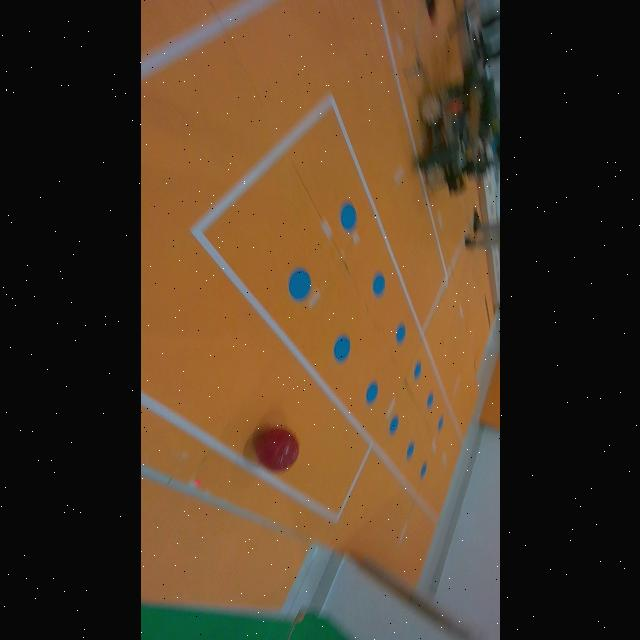R: (255, 429, 298, 471)
